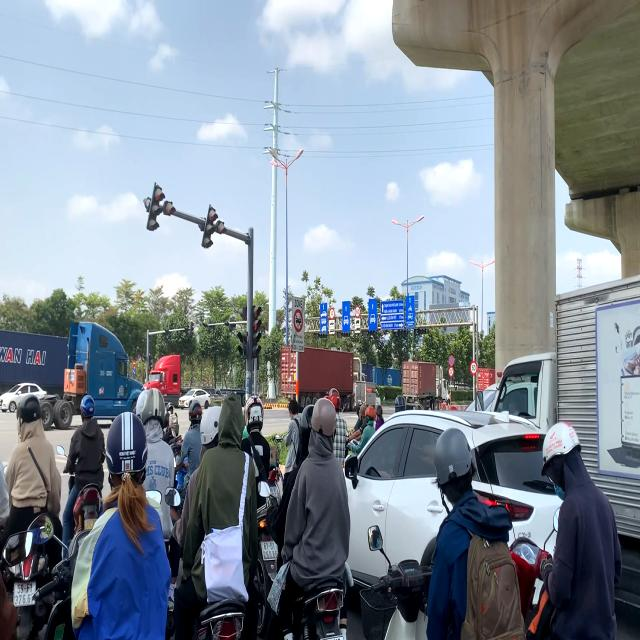P.102: (132, 359, 136, 366)
P.127: (469, 360, 478, 376), (354, 305, 360, 318), (329, 308, 335, 319)
P.130: (448, 354, 454, 366)
R.302a: (132, 368, 136, 376)
